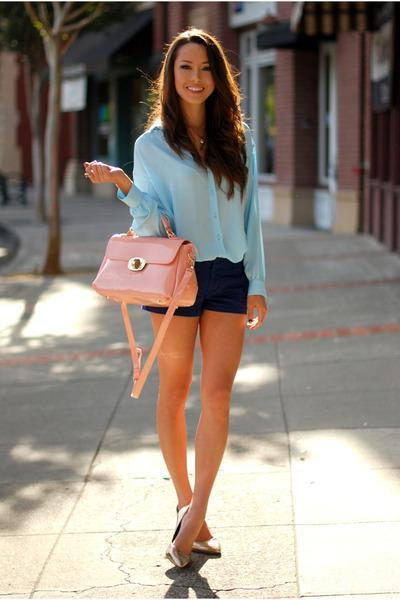bag: (84, 214, 197, 398)
shirt: (118, 108, 277, 296)
shorts: (156, 257, 248, 318)
